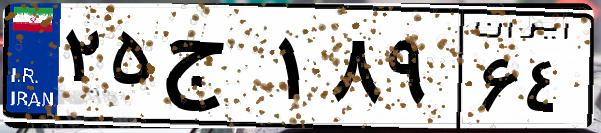1: (270, 28, 330, 110)
2: (57, 26, 110, 100)
4: (525, 38, 570, 115)
5: (110, 28, 158, 98)
6: (475, 38, 525, 113)
8: (330, 28, 385, 110)
9: (385, 28, 445, 110)
ج: (158, 20, 270, 120)
